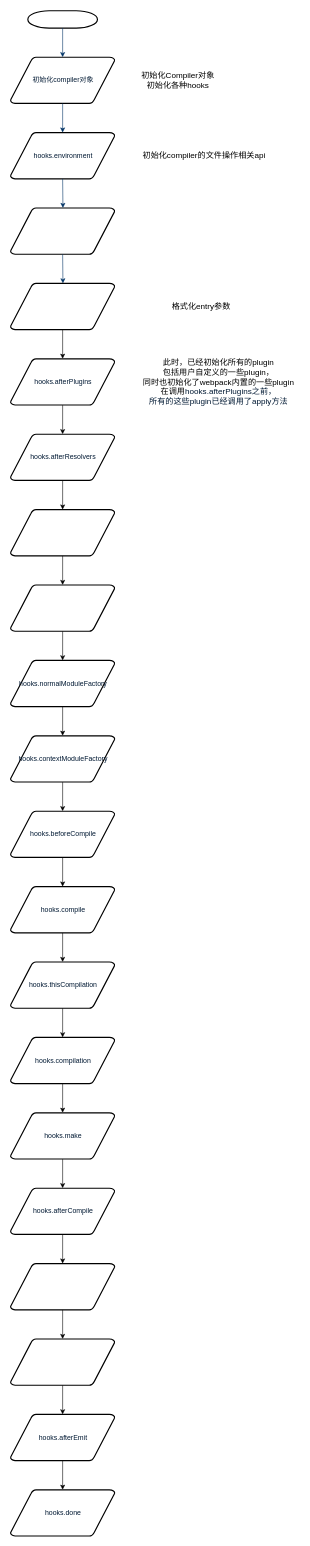
Some shapes in this 310 by 1546 pixel diagram are drawn without their labels. Each missing label, with the centre of its shape:
"hooks.afterEnvironment" belongs at pixel 62 231.
"hooks.beforeRun" belongs at pixel 62 532.
"hooks.emit" belongs at pixel 62 1362.
"hooks.entryOption" belongs at pixel 62 306.
"hooks.run" belongs at pixel 62 608.
"hooks.shouldEmit" belongs at pixel 62 1286.
"调用webpack" belongs at pixel 62 19.
